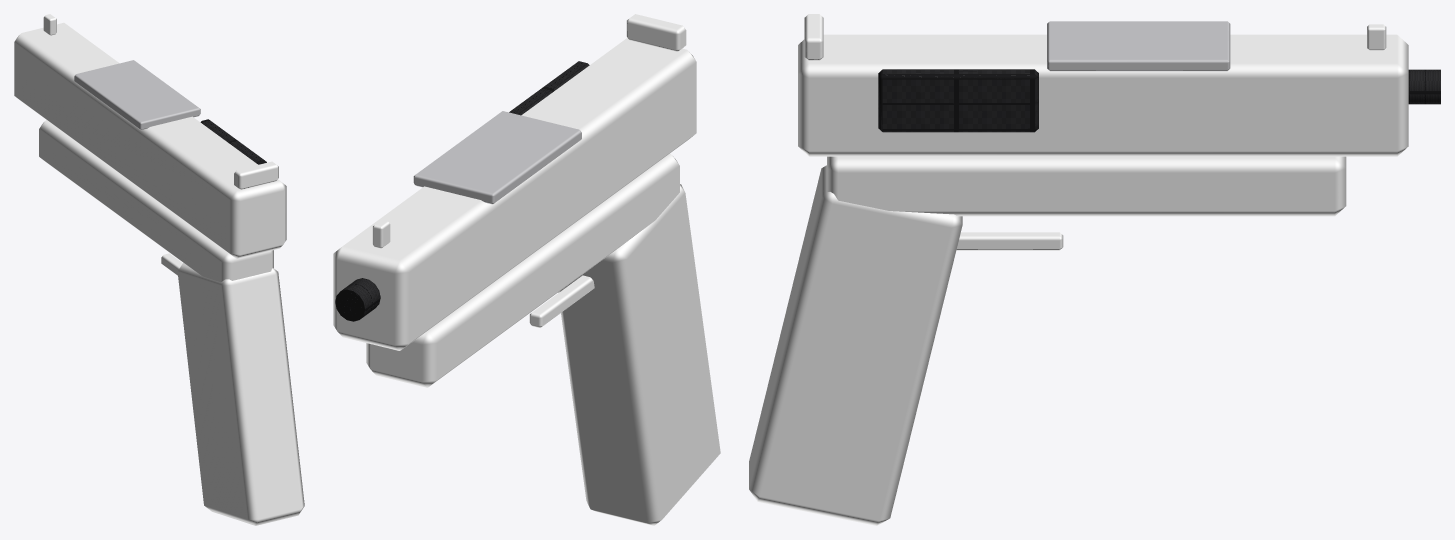
The picture shows the model from 3 angles, left to right: view 1: azimuth 30°, elevation 25°; view 2: azimuth 150°, elevation 25°; view 3: azimuth 270°, elevation 25°; orthographic projection. The views are drawn at different scales.
Size of the model in its own units: 0.0325 by 0.1668 by 0.2152.
4 materials, 1 textured.
